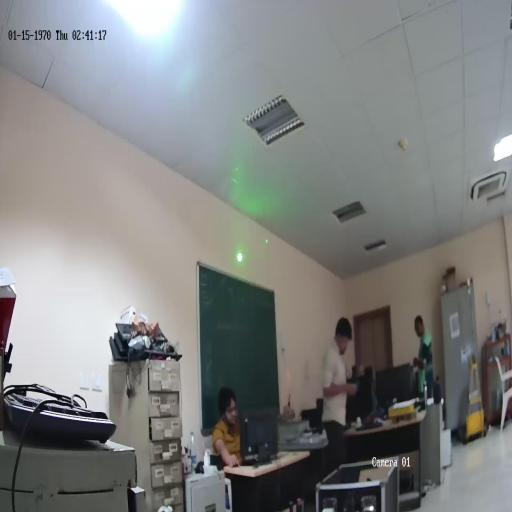laser: (234, 249, 244, 264)
